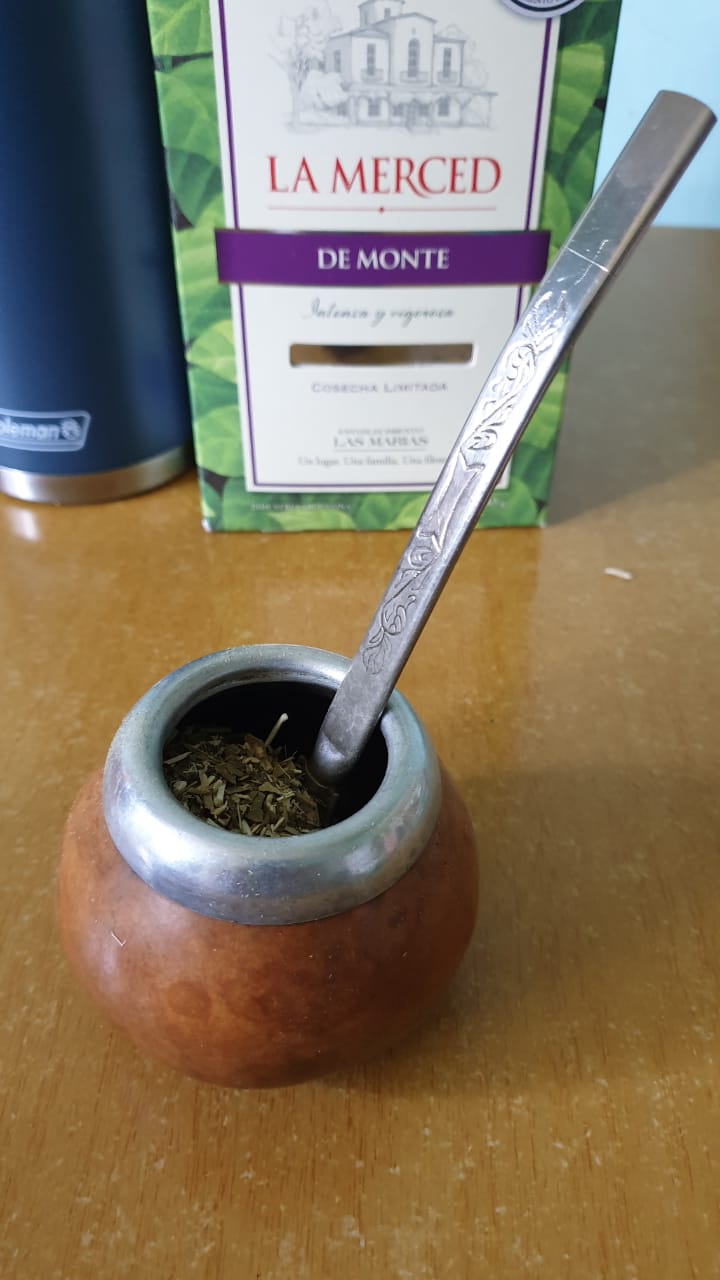calabaza: (43, 641, 497, 1100)
mate: (49, 621, 511, 1121)
